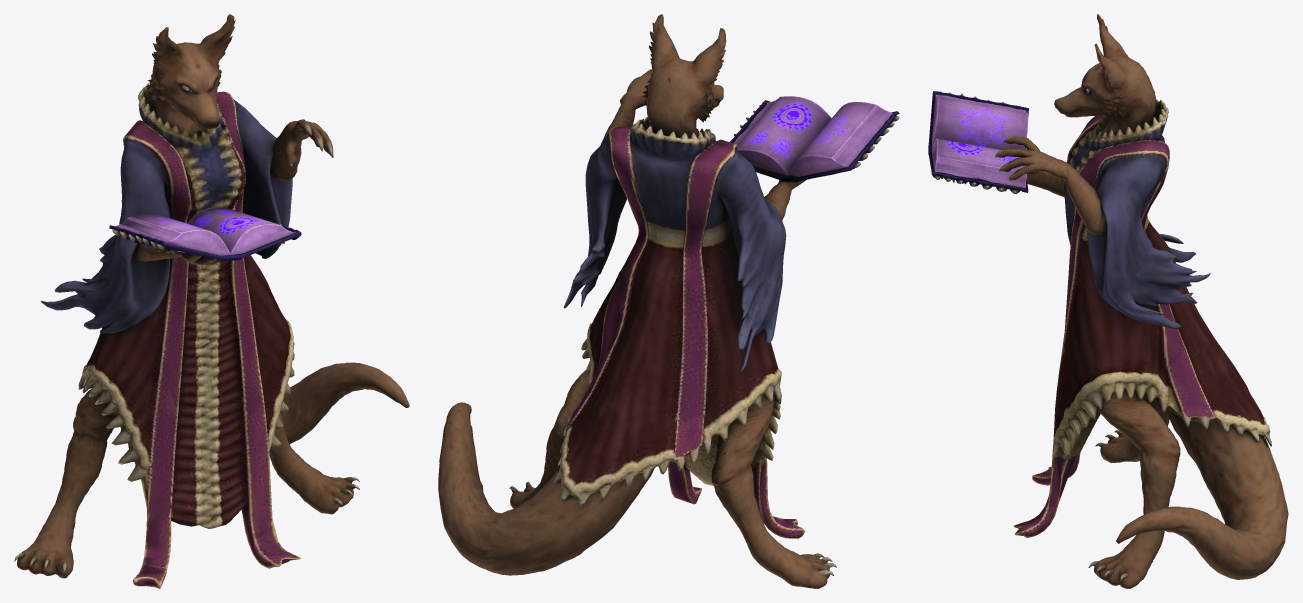
File: MZ4250 - Arcanaloth 2025.glb
3 renders of one model, left to right at view 1: azimuth 30°, elevation 25°; view 2: azimuth 150°, elevation 25°; view 3: azimuth 270°, elevation 25°, orthographic. The views are drawn at different scales.
Parts seen in each view (by area): view 1: Body.001; view 2: Body.001; view 3: Body.001.
Part boxes in pixels (box(x1,y1,x2,y2)): Body.001: box(14, 14, 409, 588); Body.001: box(438, 14, 899, 588); Body.001: box(928, 14, 1288, 588).
Bounding box in the file's own units: 70.28 × 92.03 × 61.26.
3 materials, 3 textured.
